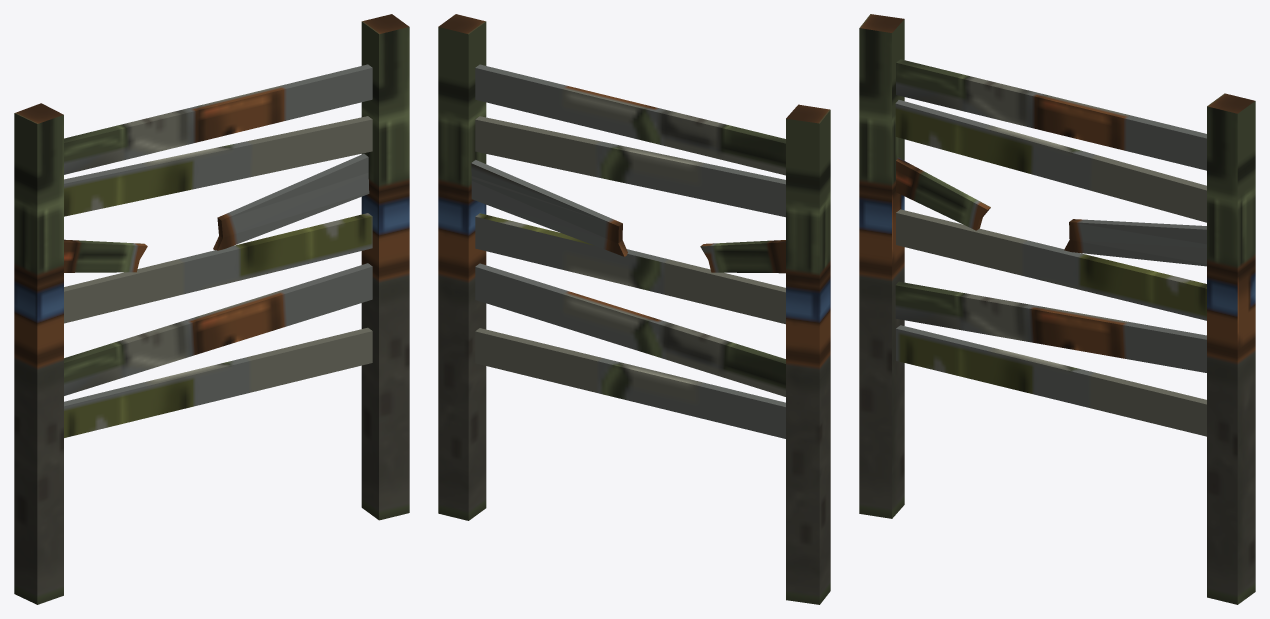
The model's file is framework_04.FBX.
3 renders of one model, left to right at view 1: azimuth 30°, elevation 25°; view 2: azimuth 150°, elevation 25°; view 3: azimuth 330°, elevation 25°, orthographic.
Visible parts, largest first — view 1: framework_04; view 2: framework_04; view 3: framework_04.
Boxes of the visible parts, <box> form: framework_04: <box>14,14,409,604</box>; framework_04: <box>438,14,830,604</box>; framework_04: <box>859,14,1255,604</box>.
Size of the model in its own units: 376 by 461 by 35.2.
1 material, 1 textured.
